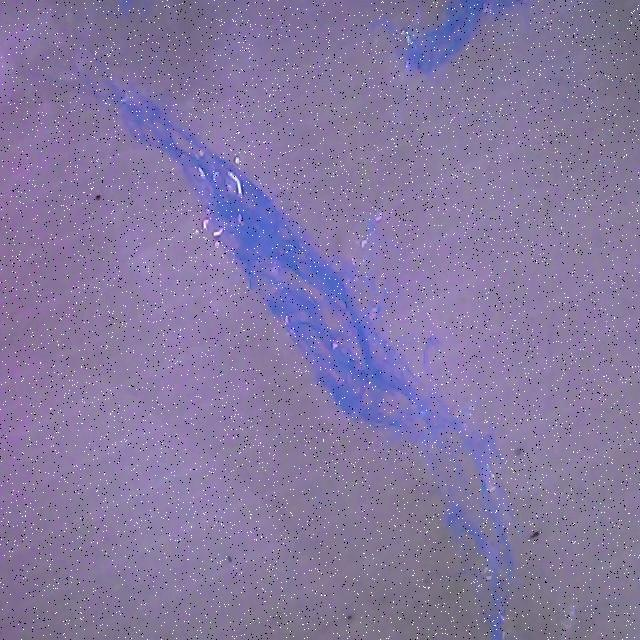fibers: (98, 71, 565, 600)
